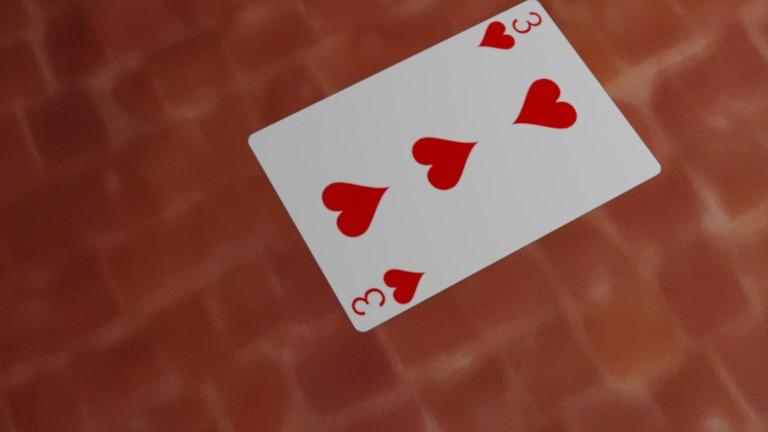3_of_hearts: (136, 101, 175, 132), (187, 0, 221, 25)
